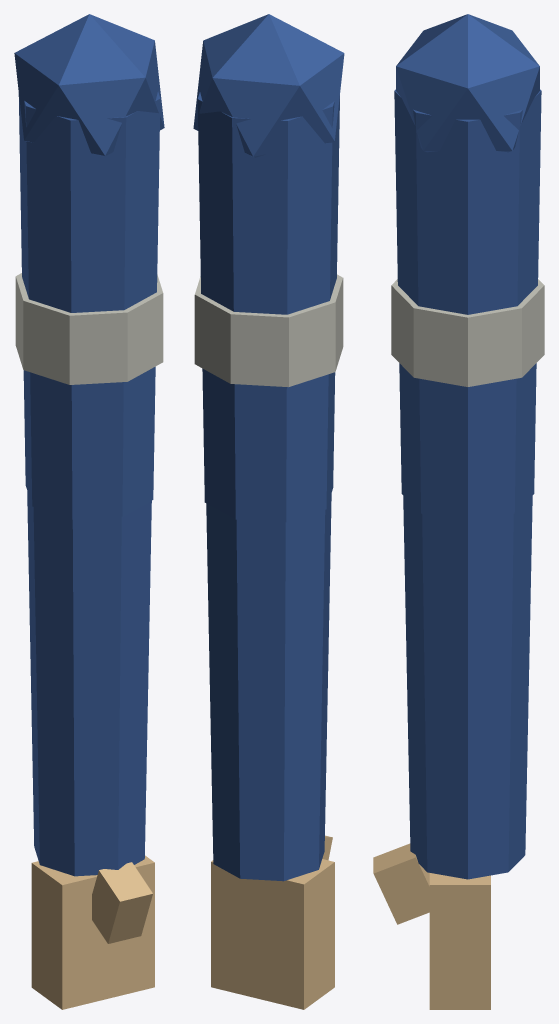
The model's file is PersonMarketArmL.obj.
The picture shows the model from 3 angles, left to right: view 1: azimuth 30°, elevation 25°; view 2: azimuth 150°, elevation 25°; view 3: azimuth 270°, elevation 25°; orthographic projection.
Parts seen in each view (by area): view 1: PersonMarketArmL; view 2: PersonMarketArmL; view 3: PersonMarketArmL.
Boxes of the visible parts, left/top/right/bottom form: PersonMarketArmL: left=14, top=14, right=164, bottom=1009; PersonMarketArmL: left=193, top=14, right=344, bottom=1009; PersonMarketArmL: left=373, top=14, right=544, bottom=1009.
Size of the model in its own units: 0.0998 by 0.7002 by 0.1115.
